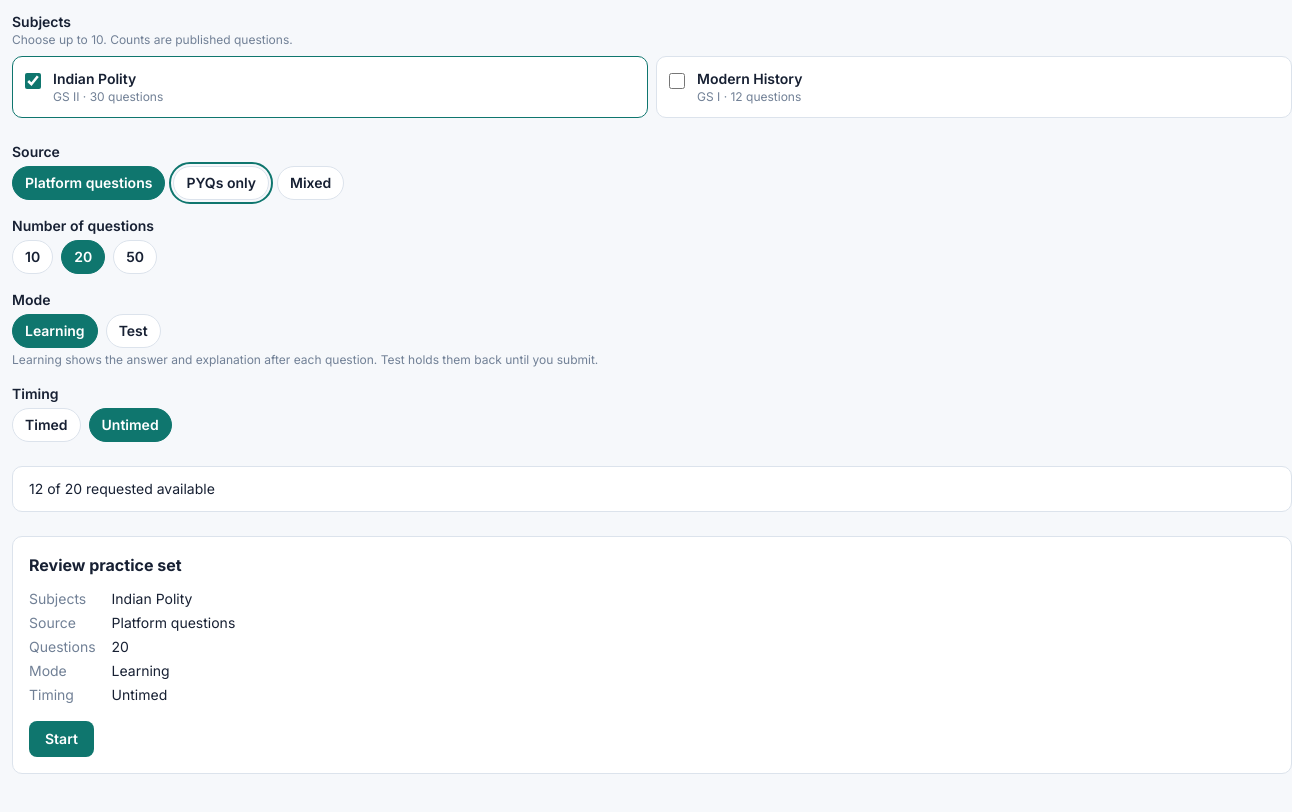
Test: BuilderForm › PYQs only with zero verified questions shows the empty message and keeps Start disabled
Check: the text "12 of 20 requested available" is shown, box [12, 466, 1291, 512]
Click the radio button labelled "PYQs only" at (221, 183), box [173, 166, 269, 200]
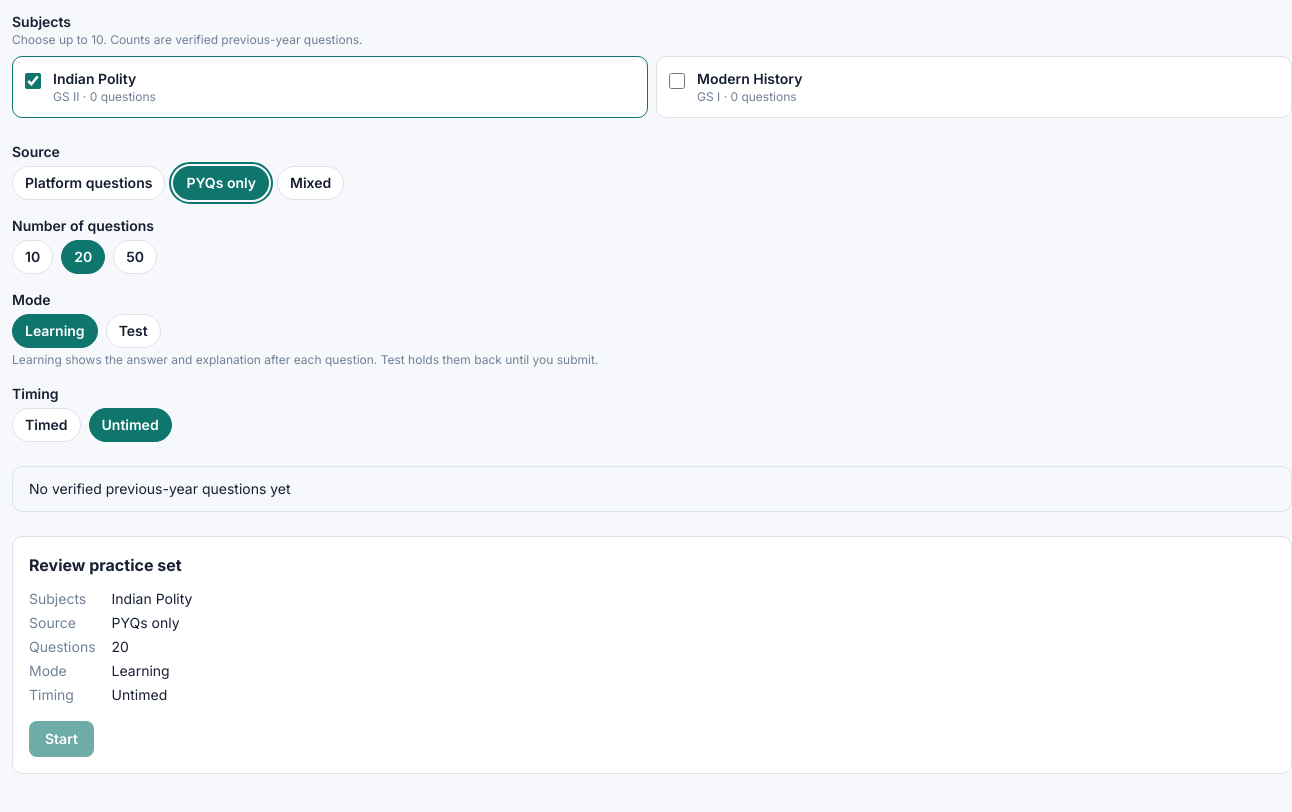
Check: the text "No verified previous-year questions yet" is shown, box [12, 466, 1291, 512]
Check: the button "Start" is disabled, box [29, 721, 94, 757]
